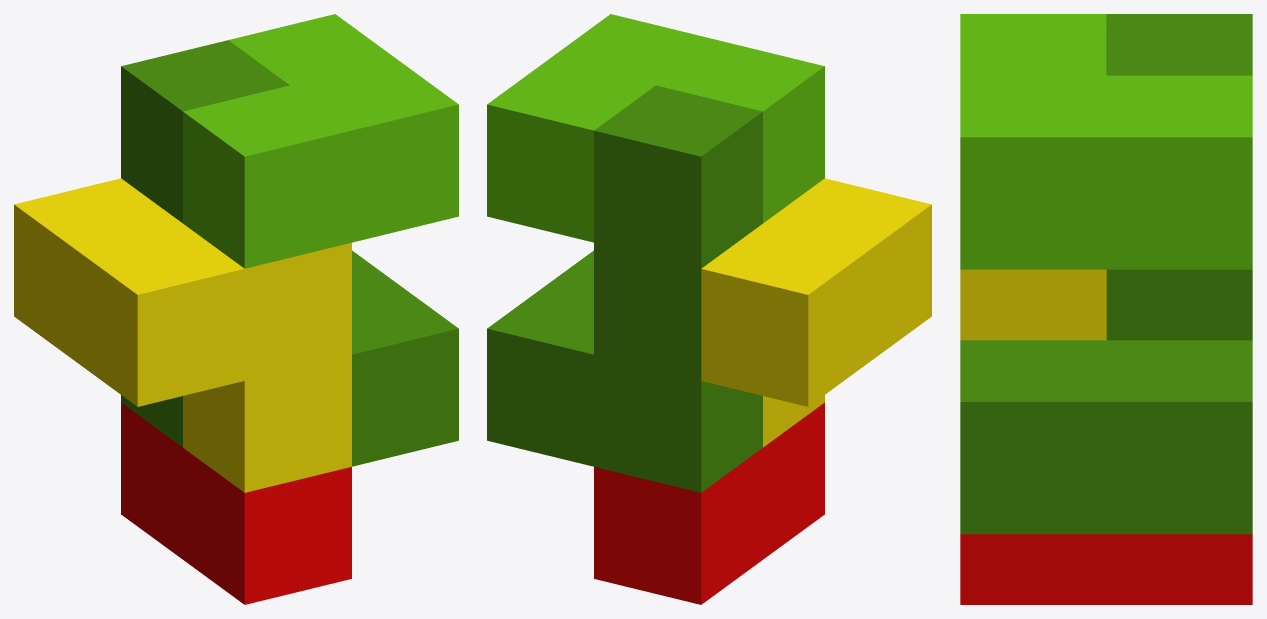
The picture shows the model from 3 angles, left to right: view 1: azimuth 30°, elevation 25°; view 2: azimuth 150°, elevation 25°; view 3: azimuth 270°, elevation 25°; orthographic projection. The views are drawn at different scales.
Parts seen in each view (by area): view 1: mergedBlocks(Clone); view 2: mergedBlocks(Clone); view 3: mergedBlocks(Clone).
Part boxes in pixels (box(x1,y1,x2,y2)): mergedBlocks(Clone): box(14, 14, 458, 604); mergedBlocks(Clone): box(487, 14, 931, 604); mergedBlocks(Clone): box(960, 14, 1252, 604).
Size of the model in its own units: 3 by 4 by 2.
4 materials, 4 textured.
